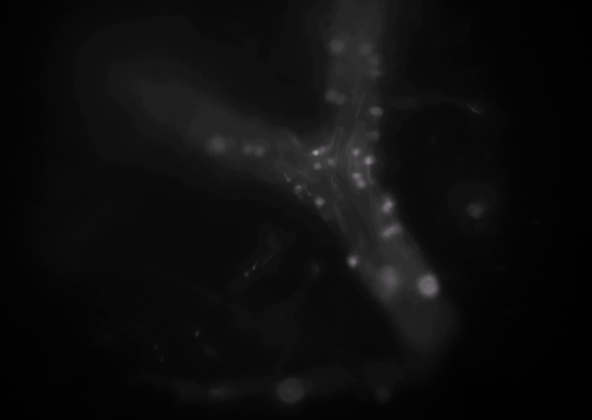cell: (422, 278, 436, 292), (369, 105, 383, 119), (349, 146, 363, 160), (363, 154, 377, 168), (315, 144, 329, 158), (310, 158, 324, 172), (325, 155, 339, 169), (324, 89, 338, 103), (350, 169, 364, 183), (334, 92, 348, 106), (354, 176, 368, 190), (346, 254, 360, 268), (382, 271, 396, 285), (381, 226, 395, 240), (382, 197, 396, 211), (387, 220, 401, 234), (381, 201, 395, 215), (313, 195, 327, 209), (292, 179, 306, 193), (253, 145, 267, 159), (212, 139, 226, 153), (359, 42, 373, 56), (367, 53, 381, 67), (331, 39, 345, 53), (367, 128, 381, 142), (309, 145, 323, 159), (240, 142, 254, 156)
